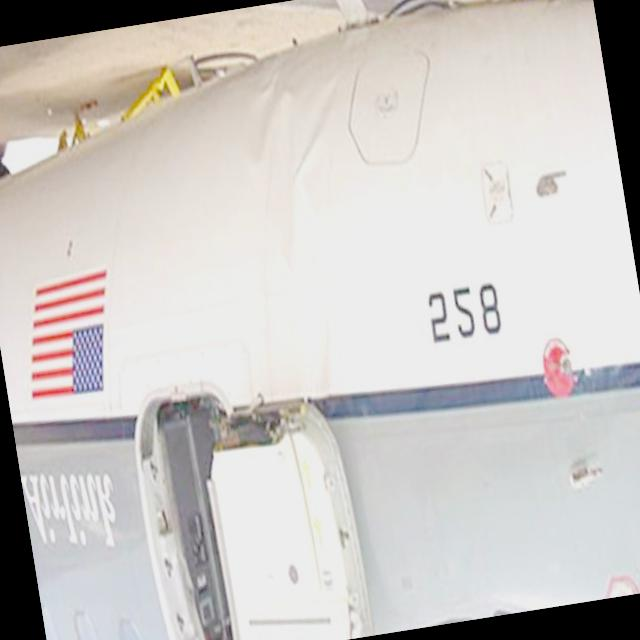dent: (235, 57, 394, 409)
